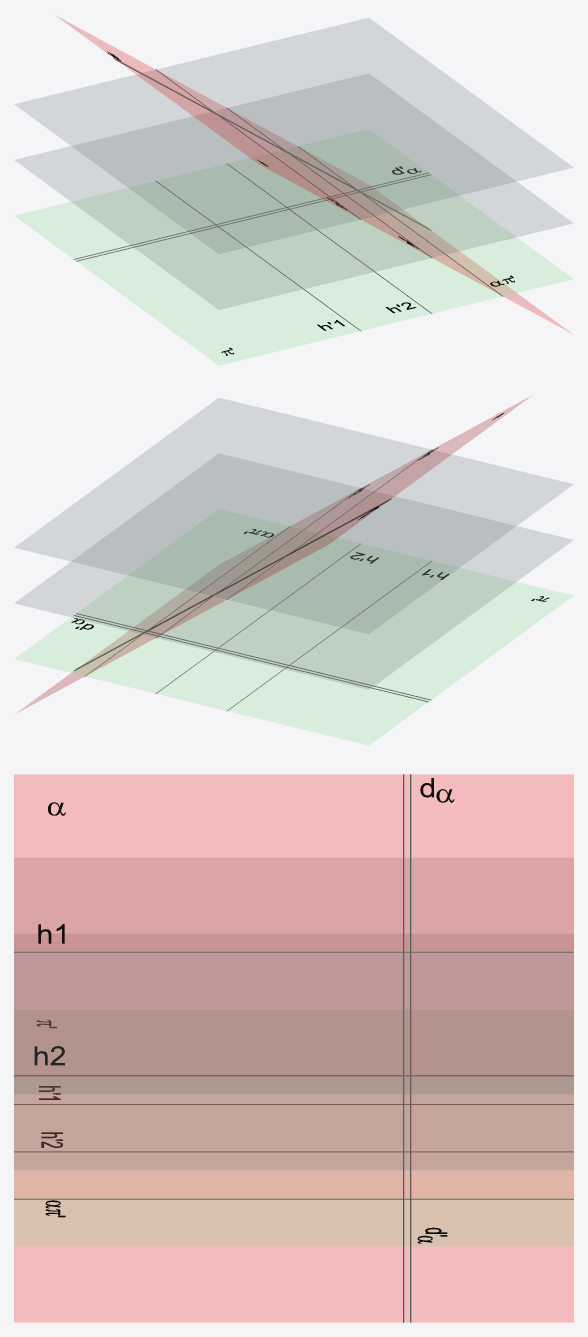
The model's file is reta_decliveN.glb.
3 views of the same model, one above another, from view 1: azimuth 30°, elevation 25°; view 2: azimuth 150°, elevation 25°; view 3: azimuth 270°, elevation 25° (orthographic). The views are drawn at different scales.
Visible parts, largest first — view 1: object 20, root, Pipe (×3); view 2: object 20, root, Pipe (×3); view 3: root, object 20, Pipe (×4).
Boxes of the visible parts, x1,y1,x2,y2 form: object 20: (15, 18, 572, 365); root: (57, 16, 568, 355); Pipe (×3): (73, 59, 431, 261); object 20: (15, 398, 572, 745); root: (19, 396, 549, 711); Pipe (×3): (73, 500, 431, 702); root: (14, 774, 573, 1322); object 20: (14, 858, 573, 1245); Pipe (×4): (14, 774, 573, 1322).
Bounding box in the file's own units: 2.54 × 1.7 × 2.54.
